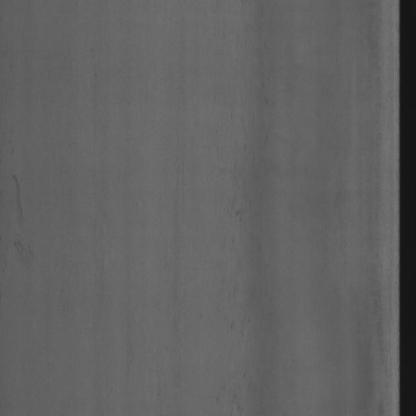water_spot: (13, 165, 42, 283)
